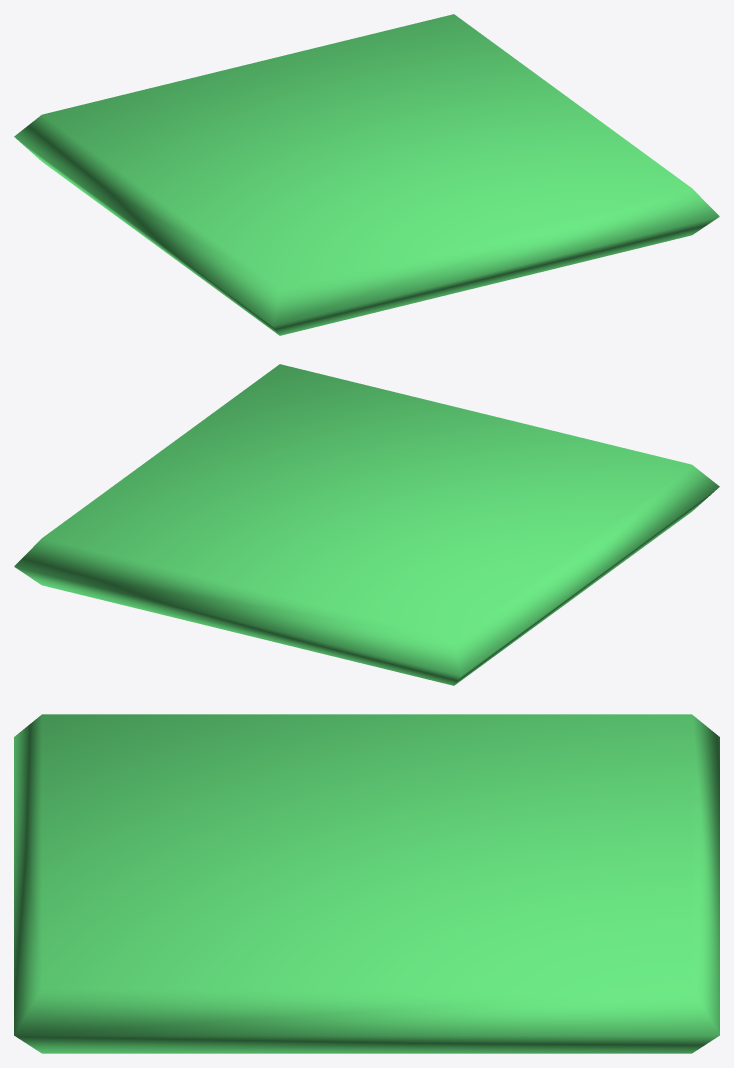
File: piadina_olio_max.fbx
3 views of the same model, one above another, from view 1: azimuth 30°, elevation 25°; view 2: azimuth 150°, elevation 25°; view 3: azimuth 270°, elevation 25° (orthographic). The views are drawn at different scales.
Parts seen in each view (by area): view 1: olioMax; view 2: olioMax; view 3: olioMax.
Boxes of the visible parts, left/top/right/bottom form: olioMax: left=14, top=14, right=719, bottom=335; olioMax: left=14, top=364, right=719, bottom=685; olioMax: left=14, top=714, right=719, bottom=1053.
Bounding box in the file's own units: 217 × 21.82 × 217.
